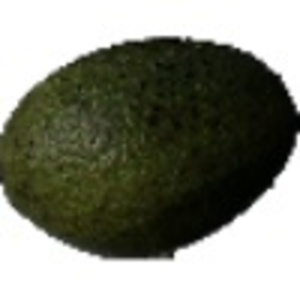abacate: (1, 34, 300, 260)
